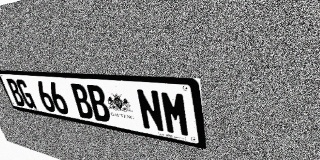6: (46, 81, 70, 115), (34, 80, 57, 113)
B: (85, 84, 112, 123), (69, 83, 95, 120), (5, 78, 27, 107)
G: (15, 79, 37, 109)
M: (159, 90, 191, 138)
N: (135, 88, 166, 133)
